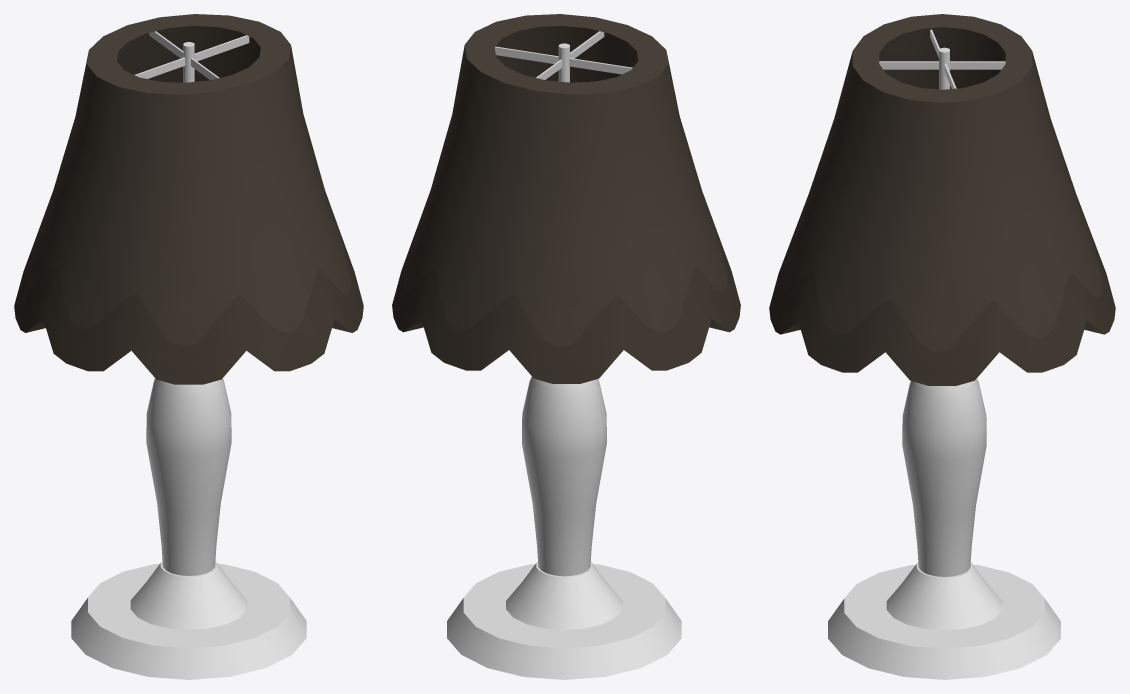
The model's file is BedsideLamp.fbx.
3 views of the same model, side by side, from view 1: azimuth 30°, elevation 25°; view 2: azimuth 150°, elevation 25°; view 3: azimuth 270°, elevation 25° (orthographic).
Visible parts, largest first — view 1: Cylinder066, Cylinder062, Cylinder063, Cylinder061, Cylinder065; view 2: Cylinder066, Cylinder062, Cylinder063, Cylinder061, Cylinder065; view 3: Cylinder066, Cylinder062, Cylinder063, Cylinder061, Cylinder065.
Part boxes in pixels (bbox=[...]): Cylinder066: bbox=[14, 14, 363, 384]; Cylinder062: bbox=[71, 563, 306, 679]; Cylinder063: bbox=[146, 378, 231, 575]; Cylinder061: bbox=[130, 561, 247, 629]; Cylinder065: bbox=[135, 31, 249, 82]; Cylinder066: bbox=[392, 14, 740, 383]; Cylinder062: bbox=[447, 564, 681, 679]; Cylinder063: bbox=[522, 376, 606, 576]; Cylinder061: bbox=[506, 561, 622, 629]; Cylinder065: bbox=[494, 31, 632, 82]; Cylinder066: bbox=[769, 14, 1115, 385]; Cylinder062: bbox=[828, 564, 1060, 679]; Cylinder063: bbox=[902, 379, 986, 576]; Cylinder061: bbox=[886, 562, 1002, 630]; Cylinder065: bbox=[879, 29, 1005, 89].
Size of the model in its own units: 1.4 by 1.41 by 2.61.
1 material, 1 textured.
